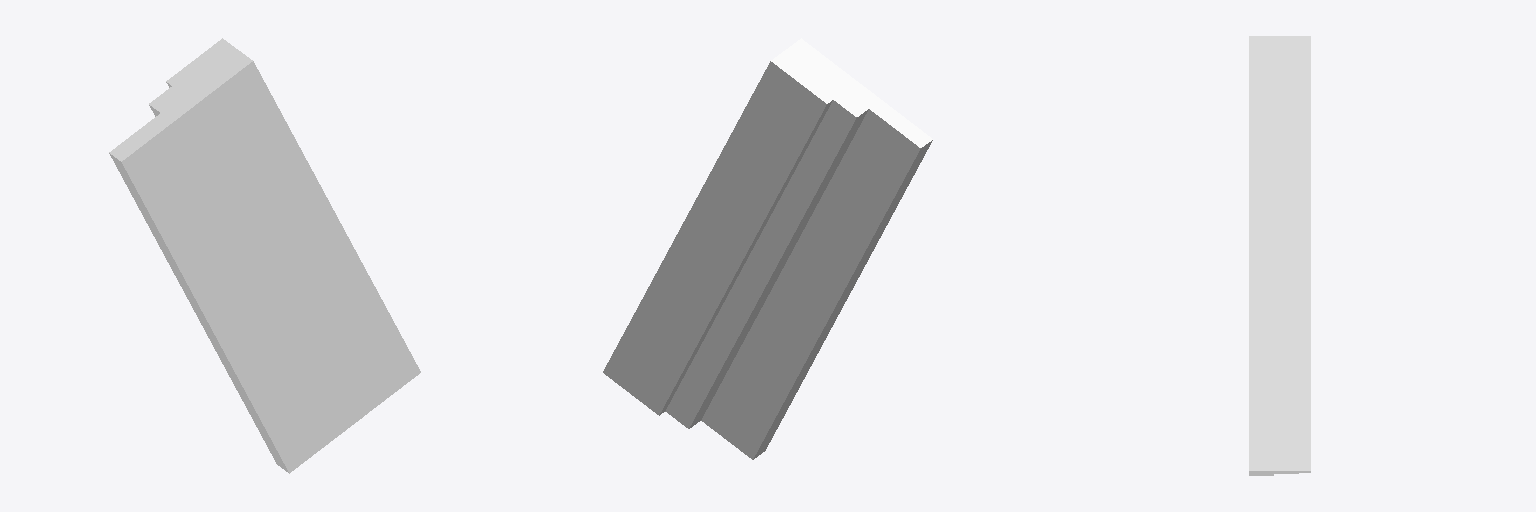
File: mt_roof_edge_double_l.obj
3 views of the same model, side by side, from view 1: azimuth 30°, elevation 25°; view 2: azimuth 150°, elevation 25°; view 3: azimuth 270°, elevation 25° (orthographic).
Visible parts, largest first — view 1: cube; view 2: cube; view 3: cube.
Part boxes in pixels (x1,y1,x2,y2): cube: (109, 38, 420, 473); cube: (603, 38, 932, 459); cube: (1249, 36, 1310, 475).
Bounding box in the file's own units: 1.78 × 2.39 × 0.3172.